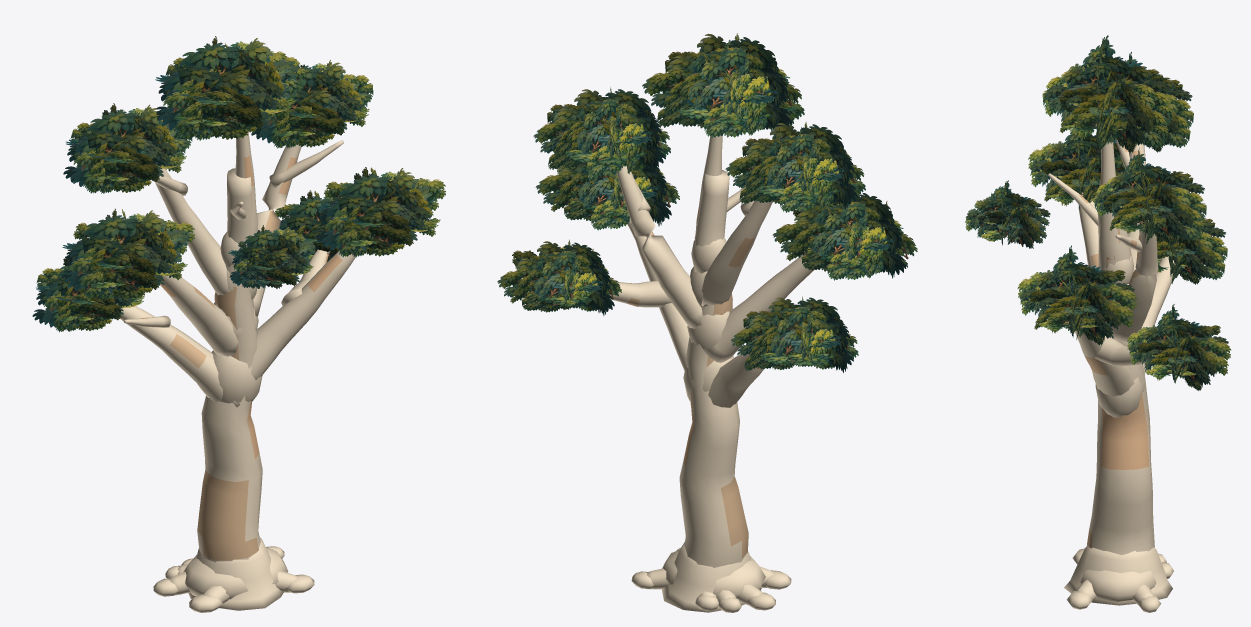
File: TREE_EUCALYPTUS_001_v009_LOD_CLOSE.glb
The picture shows the model from 3 angles, left to right: view 1: azimuth 30°, elevation 25°; view 2: azimuth 150°, elevation 25°; view 3: azimuth 270°, elevation 25°; orthographic projection. The views are drawn at different scales.
Visible parts, largest first — view 1: TREE_EUCALYPTUS_001_CLOSE_AUTHORED_FOLIAGE_ISLANDS, TREE_EUCALYPTUS_001_CLOSE_MAIN_TRUNK, TREE_EUCALYPTUS_001_CLOSE_MID_RIGHT_SWEEP, TREE_EUCALYPTUS_001_CLOSE_LOWER_LEFT_SWEEP, TREE_EUCALYPTUS_001_CLOSE_MID_LEFT_ARCH, TREE_EUCALYPTUS_001_CLOSE_SCULPTED_ROOT_COLLAR, TREE_EUCALYPTUS_001_CLOSE_UPPER_LEFT_FORK, TREE_EUCALYPTUS_001_CLOSE_BROAD_PLANTED_ROOT_MOUND, TREE_EUCALYPTUS_001_CLOSE_UPPER_RIGHT_ARCH, TREE_EUCALYPTUS_001_CLOSE_SCULPTED_FORK_SWELL_0, TREE_EUCALYPTUS_001_CLOSE_CENTRAL_CROWN_FORK, TREE_EUCALYPTUS_001_CLOSE_RIGHT_TOP_SUPPORT (+1 smaller); view 2: TREE_EUCALYPTUS_001_CLOSE_AUTHORED_FOLIAGE_ISLANDS, TREE_EUCALYPTUS_001_CLOSE_MAIN_TRUNK, TREE_EUCALYPTUS_001_CLOSE_UPPER_RIGHT_ARCH, TREE_EUCALYPTUS_001_CLOSE_UPPER_LEFT_FORK, TREE_EUCALYPTUS_001_CLOSE_MID_LEFT_ARCH, TREE_EUCALYPTUS_001_CLOSE_SCULPTED_ROOT_COLLAR, TREE_EUCALYPTUS_001_CLOSE_LOWER_LEFT_SWEEP, TREE_EUCALYPTUS_001_CLOSE_MID_RIGHT_SWEEP, TREE_EUCALYPTUS_001_CLOSE_BROAD_PLANTED_ROOT_MOUND, TREE_EUCALYPTUS_001_CLOSE_LOWER_RIGHT_REACH, TREE_EUCALYPTUS_001_CLOSE_SCULPTED_FORK_SWELL_1, TREE_EUCALYPTUS_001_CLOSE_CENTRAL_CROWN_FORK (+2 smaller); view 3: TREE_EUCALYPTUS_001_CLOSE_AUTHORED_FOLIAGE_ISLANDS, TREE_EUCALYPTUS_001_CLOSE_MAIN_TRUNK, TREE_EUCALYPTUS_001_CLOSE_SCULPTED_ROOT_COLLAR, TREE_EUCALYPTUS_001_CLOSE_UPPER_RIGHT_ARCH, TREE_EUCALYPTUS_001_CLOSE_BROAD_PLANTED_ROOT_MOUND, TREE_EUCALYPTUS_001_CLOSE_MID_RIGHT_SWEEP, TREE_EUCALYPTUS_001_CLOSE_CENTRAL_CROWN_FORK, TREE_EUCALYPTUS_001_CLOSE_SCULPTED_FORK_SWELL_0, TREE_EUCALYPTUS_001_CLOSE_LOWER_LEFT_SWEEP, TREE_EUCALYPTUS_001_CLOSE_MID_LEFT_ARCH, TREE_EUCALYPTUS_001_CLOSE_LOWER_RIGHT_REACH, TREE_EUCALYPTUS_001_CLOSE_CENTRE_BACK_SUPPORT (+1 smaller).
Part boxes in pixels (x1,y1,x2,y2): TREE_EUCALYPTUS_001_CLOSE_AUTHORED_FOLIAGE_ISLANDS: (32,36,445,332); TREE_EUCALYPTUS_001_CLOSE_MAIN_TRUNK: (197,168,262,562); TREE_EUCALYPTUS_001_CLOSE_MID_RIGHT_SWEEP: (251,250,355,379); TREE_EUCALYPTUS_001_CLOSE_LOWER_LEFT_SWEEP: (116,303,240,407); TREE_EUCALYPTUS_001_CLOSE_MID_LEFT_ARCH: (160,275,238,356); TREE_EUCALYPTUS_001_CLOSE_SCULPTED_ROOT_COLLAR: (188,537,283,610); TREE_EUCALYPTUS_001_CLOSE_UPPER_LEFT_FORK: (155,168,230,295); TREE_EUCALYPTUS_001_CLOSE_BROAD_PLANTED_ROOT_MOUND: (183,547,288,599); TREE_EUCALYPTUS_001_CLOSE_UPPER_RIGHT_ARCH: (253,144,301,316); TREE_EUCALYPTUS_001_CLOSE_SCULPTED_FORK_SWELL_0: (211,350,262,403); TREE_EUCALYPTUS_001_CLOSE_CENTRAL_CROWN_FORK: (235,132,257,242); TREE_EUCALYPTUS_001_CLOSE_RIGHT_TOP_SUPPORT: (269,140,343,187); TREE_EUCALYPTUS_001_CLOSE_AUTHORED_FOLIAGE_ISLANDS: (497,33,917,372); TREE_EUCALYPTUS_001_CLOSE_MAIN_TRUNK: (679,170,748,567); TREE_EUCALYPTUS_001_CLOSE_UPPER_RIGHT_ARCH: (611,145,702,328); TREE_EUCALYPTUS_001_CLOSE_UPPER_LEFT_FORK: (701,199,772,306); TREE_EUCALYPTUS_001_CLOSE_MID_LEFT_ARCH: (703,253,821,362); TREE_EUCALYPTUS_001_CLOSE_SCULPTED_ROOT_COLLAR: (661,542,761,612); TREE_EUCALYPTUS_001_CLOSE_LOWER_LEFT_SWEEP: (708,354,763,407); TREE_EUCALYPTUS_001_CLOSE_MID_RIGHT_SWEEP: (627,218,689,370); TREE_EUCALYPTUS_001_CLOSE_BROAD_PLANTED_ROOT_MOUND: (662,550,765,598); TREE_EUCALYPTUS_001_CLOSE_LOWER_RIGHT_REACH: (609,281,671,307); TREE_EUCALYPTUS_001_CLOSE_SCULPTED_FORK_SWELL_1: (687,311,729,349); TREE_EUCALYPTUS_001_CLOSE_CENTRAL_CROWN_FORK: (694,135,722,273); TREE_EUCALYPTUS_001_CLOSE_AUTHORED_FOLIAGE_ISLANDS: (965,35,1231,390); TREE_EUCALYPTUS_001_CLOSE_MAIN_TRUNK: (1087,193,1154,554); TREE_EUCALYPTUS_001_CLOSE_SCULPTED_ROOT_COLLAR: (1064,546,1172,605); TREE_EUCALYPTUS_001_CLOSE_UPPER_RIGHT_ARCH: (1110,230,1158,341); TREE_EUCALYPTUS_001_CLOSE_BROAD_PLANTED_ROOT_MOUND: (1079,570,1156,601); TREE_EUCALYPTUS_001_CLOSE_MID_RIGHT_SWEEP: (1074,330,1134,396); TREE_EUCALYPTUS_001_CLOSE_CENTRAL_CROWN_FORK: (1098,141,1131,283); TREE_EUCALYPTUS_001_CLOSE_SCULPTED_FORK_SWELL_0: (1095,377,1144,417); TREE_EUCALYPTUS_001_CLOSE_LOWER_LEFT_SWEEP: (1141,256,1177,375); TREE_EUCALYPTUS_001_CLOSE_MID_LEFT_ARCH: (1078,192,1098,268); TREE_EUCALYPTUS_001_CLOSE_LOWER_RIGHT_REACH: (1095,336,1155,366); TREE_EUCALYPTUS_001_CLOSE_CENTRE_BACK_SUPPORT: (1048,173,1098,226).
Size of the model in its own units: 10.07 by 13.98 by 6.57.
5 materials, 1 textured.
